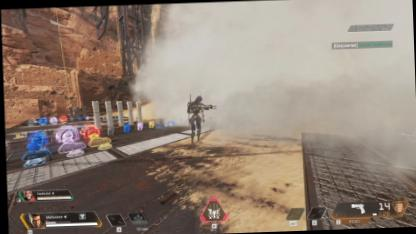Target: (186, 94, 204, 147)
